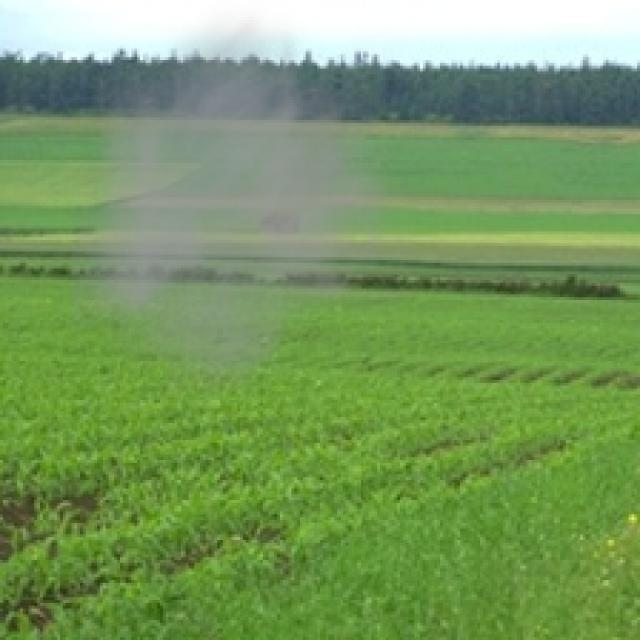Smoke: (71, 0, 429, 412)
